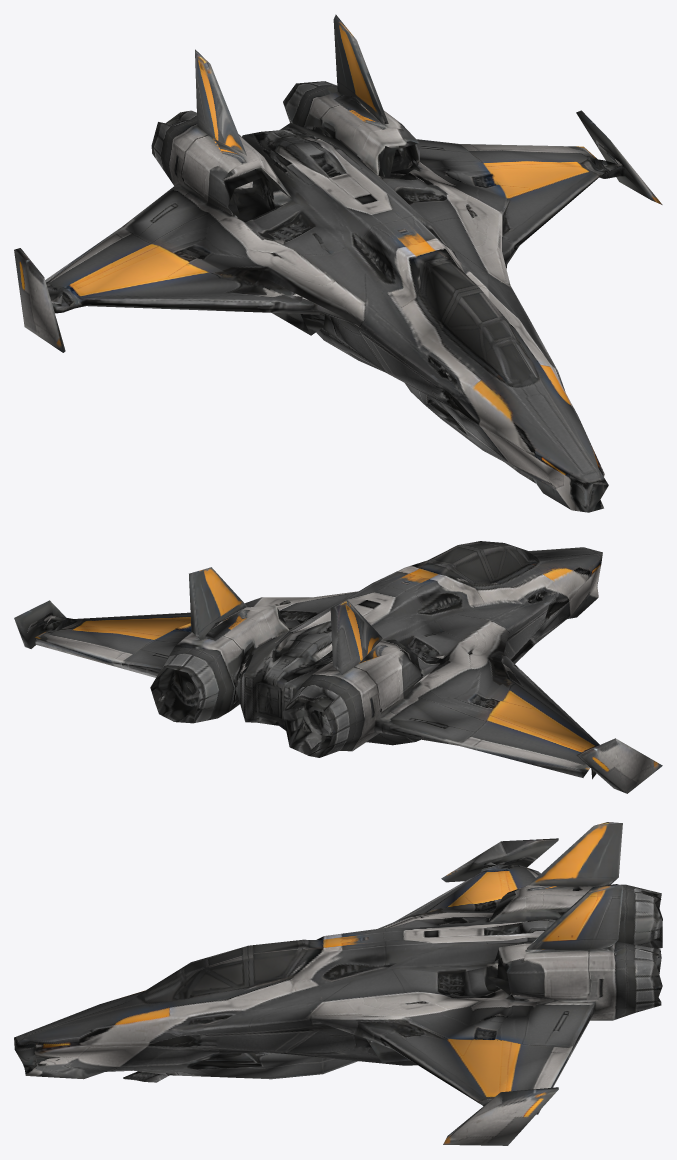
Rendered from tripo-rebaked-1000.glb.
The picture shows the model from 3 angles, top to bottom: view 1: azimuth 30°, elevation 25°; view 2: azimuth 150°, elevation 25°; view 3: azimuth 270°, elevation 25°; orthographic projection. The views are drawn at different scales.
Visible parts, largest first — view 1: Low; view 2: Low; view 3: Low.
Boxes of the visible parts, bbox=[...] form: Low: bbox=[14, 14, 662, 512]; Low: bbox=[14, 541, 662, 793]; Low: bbox=[14, 822, 662, 1145].
Bounding box in the file's own units: 0.9542 × 0.3819 × 0.9796.
Materials: 1 (1 with a texture image).
